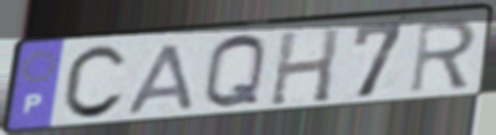7: (350, 20, 406, 101)
A: (123, 40, 197, 116)
C: (58, 43, 130, 124)
H: (266, 25, 344, 108)
Q: (200, 32, 269, 113)
R: (406, 17, 480, 96)
